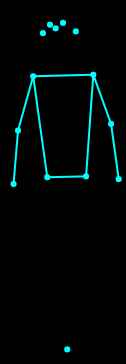mountain: (5, 15, 124, 355)
